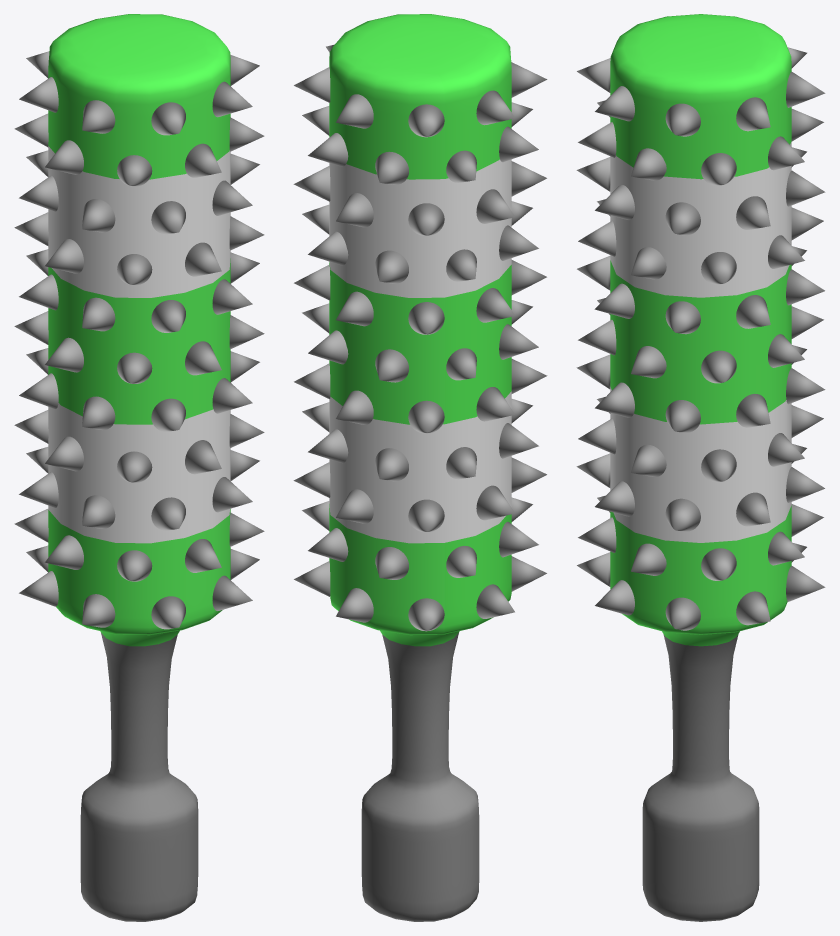
File: green-spike-trap.glb
3 views of the same model, side by side, from view 1: azimuth 30°, elevation 25°; view 2: azimuth 150°, elevation 25°; view 3: azimuth 270°, elevation 25° (orthographic).
Visible parts, largest first — view 1: Trap_spike_tall_green.001; view 2: Trap_spike_tall_green.001; view 3: Trap_spike_tall_green.001.
Part boxes in pixels (left/top/right/bottom): Trap_spike_tall_green.001: left=14, top=14, right=264, bottom=921; Trap_spike_tall_green.001: left=293, top=14, right=547, bottom=921; Trap_spike_tall_green.001: left=576, top=14, right=825, bottom=921.
Size of the model in its own units: 0.3434 by 1.31 by 0.3434.
1 material, 1 textured.
